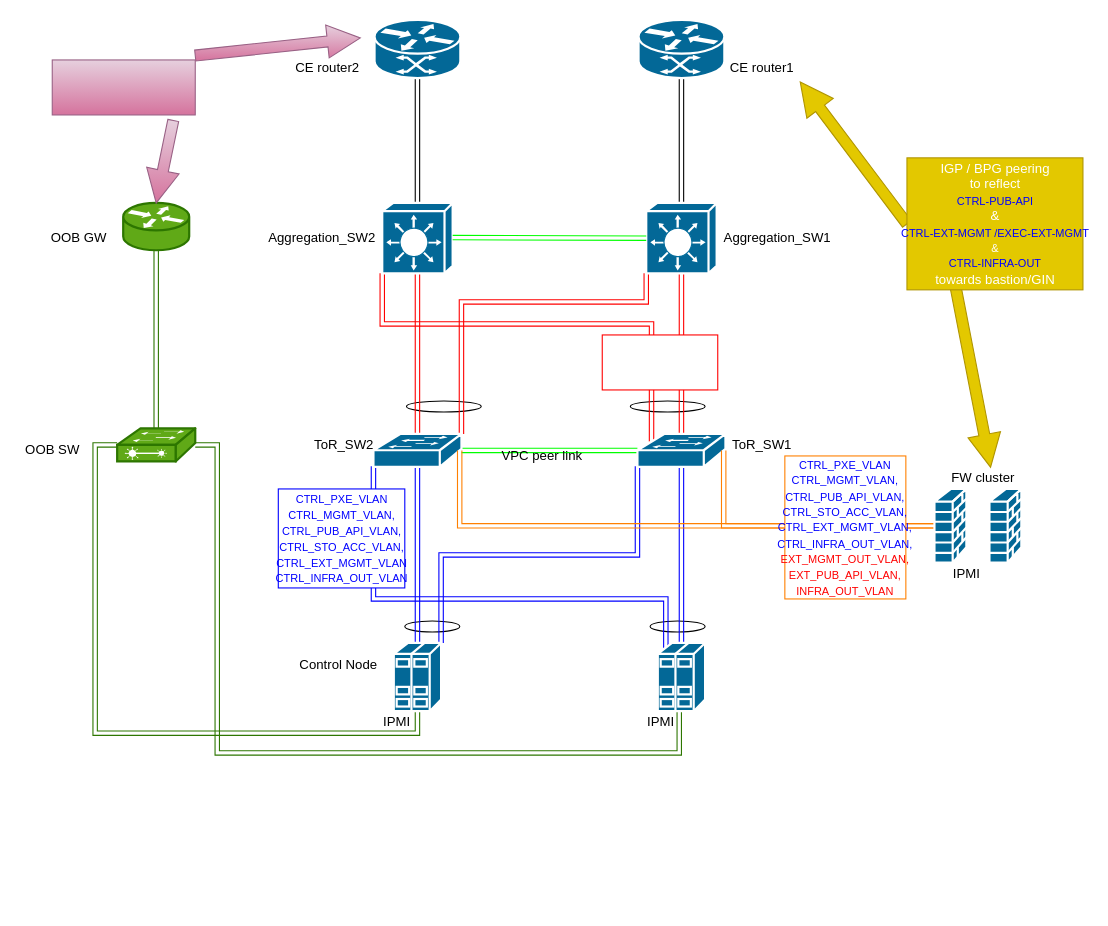
The diagram is 1108 pixels wide and 926 high, and some of its shapes have lost their labels. Each missing label, with the centre of its shape:
"EXT_MGMT_OUT_VLAN, EXT_PUB_API_VLAN, INFRA_OUT_VLAN" goes at point 659,362.
"IGP / BPG peering to route IPMI to CTRL-EXT-MGMT" goes at point 123,87.
